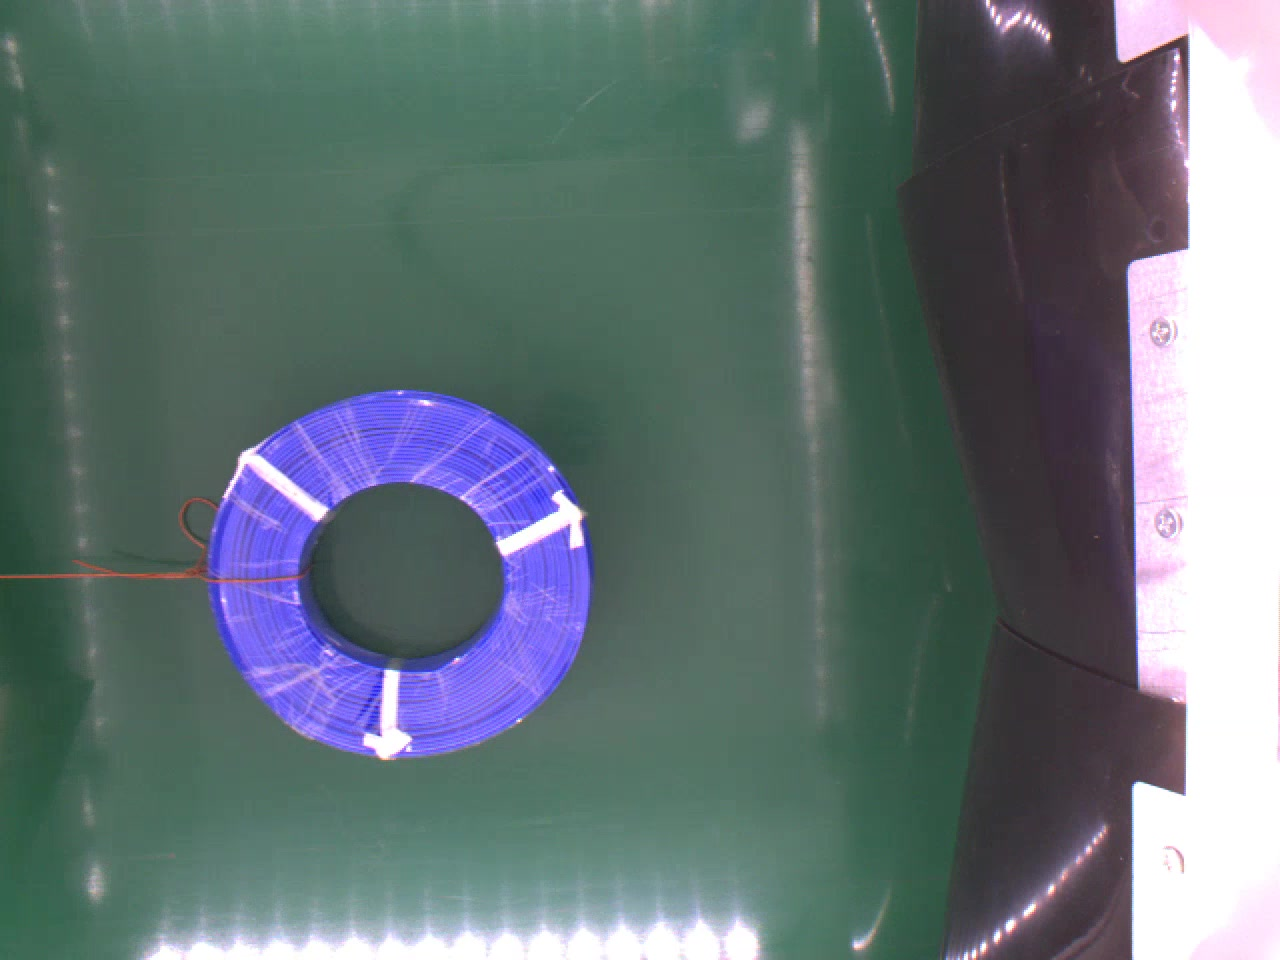blue: (211, 380, 592, 749)
